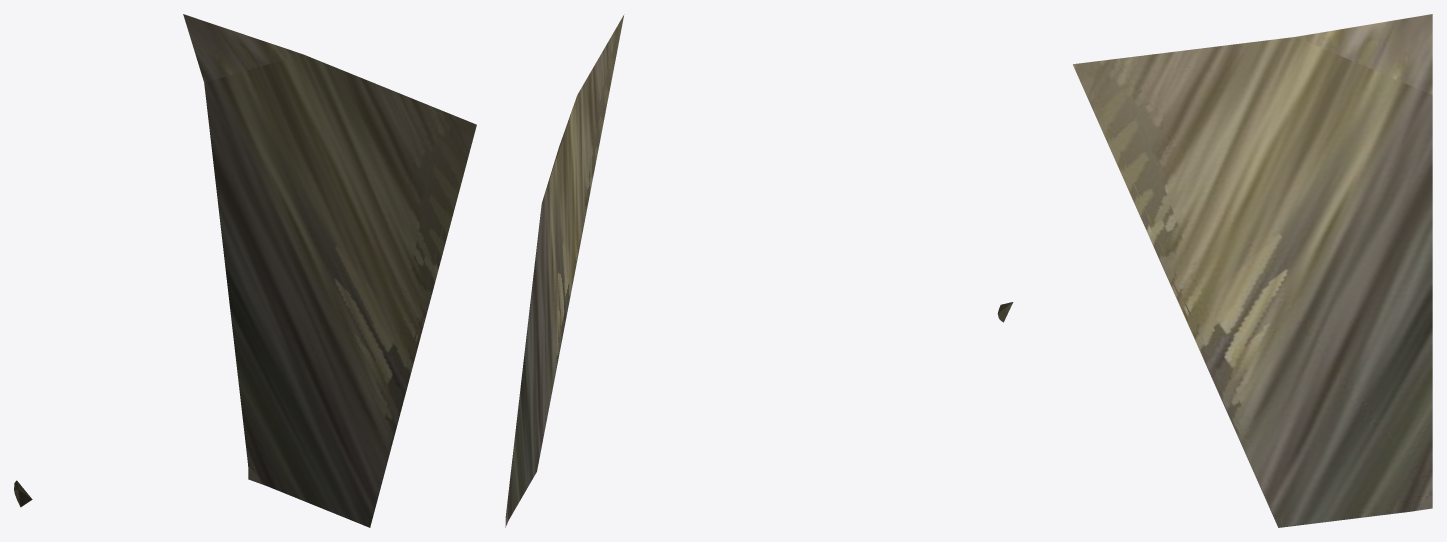
3 views of the same model, side by side, from view 1: azimuth 30°, elevation 25°; view 2: azimuth 150°, elevation 25°; view 3: azimuth 270°, elevation 25° (orthographic). The views are drawn at different scales.
Bounding box in the file's own units: 2.95 × 2.95 × 2.25.
Materials: 1 (1 with a texture image).
